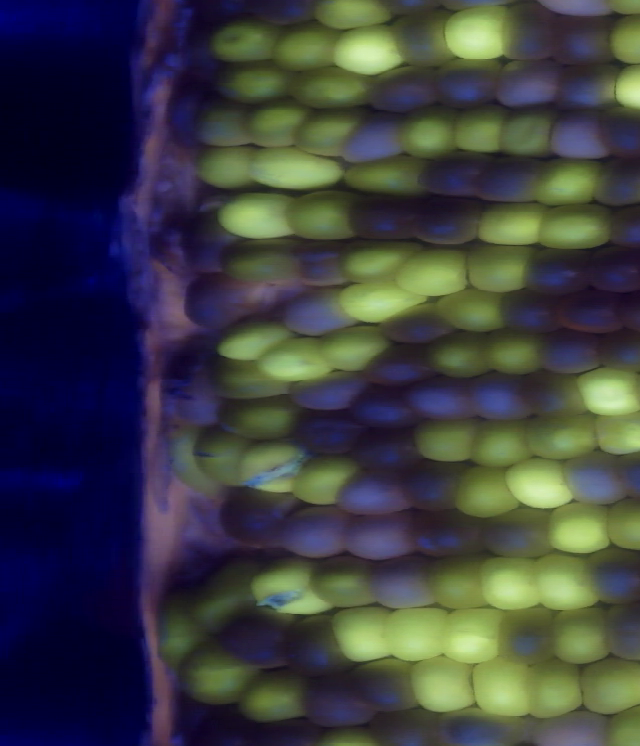fluorescent: (179, 553, 271, 634), (244, 552, 340, 624), (178, 636, 266, 712), (243, 140, 347, 195), (162, 422, 231, 504), (149, 586, 211, 676), (233, 435, 318, 500), (526, 548, 605, 617), (187, 419, 264, 489), (210, 187, 304, 244), (335, 237, 435, 290), (466, 651, 539, 723), (286, 105, 377, 162), (232, 665, 315, 727), (209, 389, 307, 441), (438, 1, 514, 68), (499, 451, 578, 515), (516, 407, 603, 465), (328, 20, 410, 81), (251, 333, 337, 391), (390, 243, 473, 303), (286, 450, 369, 510), (520, 657, 594, 724), (545, 604, 620, 670), (409, 654, 485, 719), (302, 551, 384, 611), (450, 461, 529, 523), (206, 56, 298, 109), (375, 600, 451, 664), (462, 412, 541, 473), (435, 602, 507, 668), (265, 19, 344, 79), (285, 63, 376, 115), (531, 199, 617, 254), (284, 184, 357, 248), (474, 552, 547, 616), (531, 154, 610, 213), (331, 278, 430, 325), (425, 549, 495, 615), (411, 412, 483, 476), (203, 16, 288, 70), (238, 95, 317, 153), (329, 602, 400, 666), (207, 356, 294, 408), (341, 152, 433, 201), (575, 653, 640, 721), (219, 237, 304, 288), (213, 318, 301, 367), (314, 324, 395, 376), (461, 239, 532, 298), (544, 499, 616, 557), (420, 328, 498, 381), (494, 99, 556, 164), (433, 286, 512, 336), (475, 326, 549, 379), (397, 101, 461, 162), (576, 362, 640, 423), (190, 143, 269, 192), (445, 99, 508, 160), (189, 99, 260, 153), (474, 197, 546, 250), (310, 1, 396, 35), (589, 404, 640, 461), (600, 495, 640, 555), (603, 7, 640, 69), (609, 57, 640, 117), (602, 699, 640, 746)
nonfluorescent: (176, 268, 275, 336), (212, 482, 305, 554), (211, 605, 297, 680), (404, 500, 497, 563), (394, 192, 491, 251), (551, 444, 637, 510), (358, 552, 444, 617), (332, 507, 426, 566), (391, 450, 475, 515), (173, 207, 248, 278), (280, 613, 360, 679), (277, 502, 361, 564), (340, 654, 426, 714), (458, 364, 538, 428), (476, 504, 561, 564), (287, 407, 378, 463), (329, 464, 419, 520), (274, 283, 363, 339), (410, 147, 497, 204), (340, 426, 427, 482), (345, 186, 426, 246), (515, 362, 593, 424), (385, 6, 457, 73), (400, 370, 484, 426), (429, 702, 535, 746), (295, 677, 381, 731), (466, 148, 547, 205), (433, 54, 513, 111), (371, 299, 464, 348), (334, 110, 411, 169), (495, 1, 560, 69), (530, 324, 611, 378), (285, 367, 378, 413), (541, 106, 611, 166), (523, 242, 595, 300), (362, 62, 447, 111), (355, 337, 440, 386), (550, 284, 627, 337), (578, 543, 640, 608), (164, 75, 214, 155), (545, 16, 619, 70), (491, 55, 562, 110), (521, 706, 618, 746), (343, 384, 423, 431), (495, 285, 565, 338), (552, 61, 623, 112), (287, 237, 358, 288), (363, 704, 449, 746), (174, 371, 228, 433), (581, 243, 640, 299), (181, 28, 229, 96), (584, 155, 640, 208), (601, 597, 640, 669), (596, 100, 640, 161), (238, 1, 318, 33), (589, 325, 640, 374), (188, 1, 248, 32), (601, 202, 640, 249)
